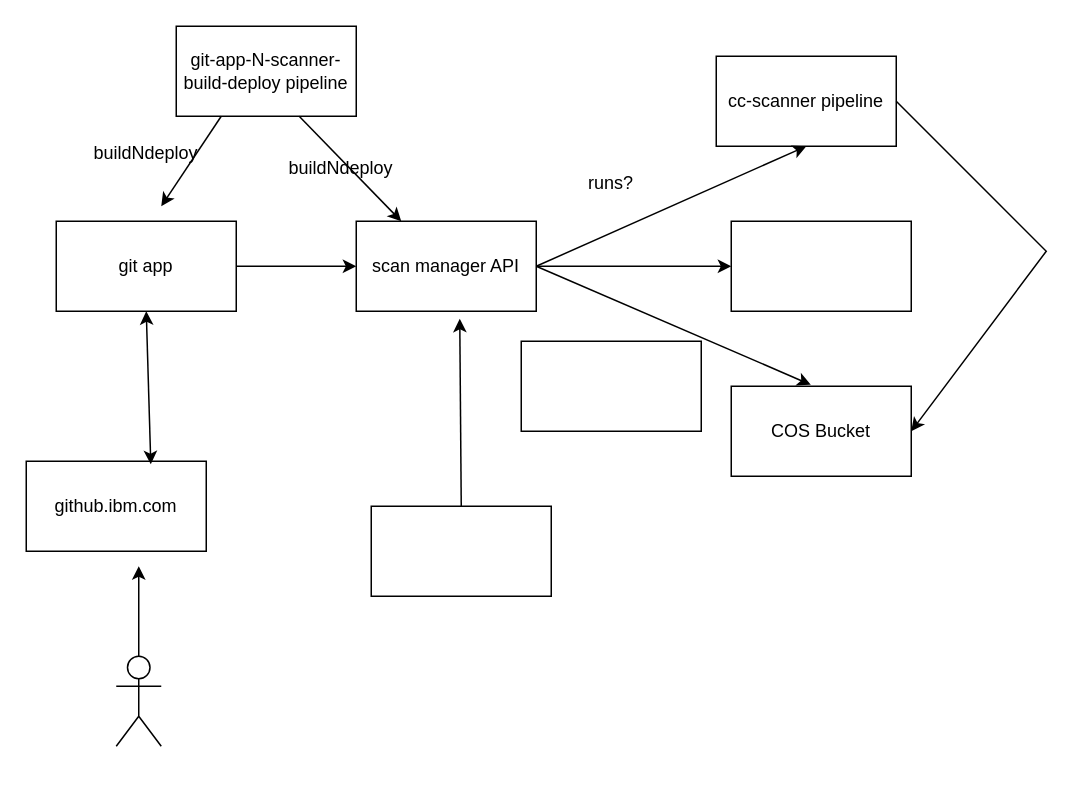
Some shapes in this 1085 by 804 pixel diagram are drawn without their labels. Each missing label, with the centre of its shape:
Actor: (x=138, y=700)
auditree: (x=460, y=550)
cloudant (org-db-id, scan-id): (x=820, y=265)
